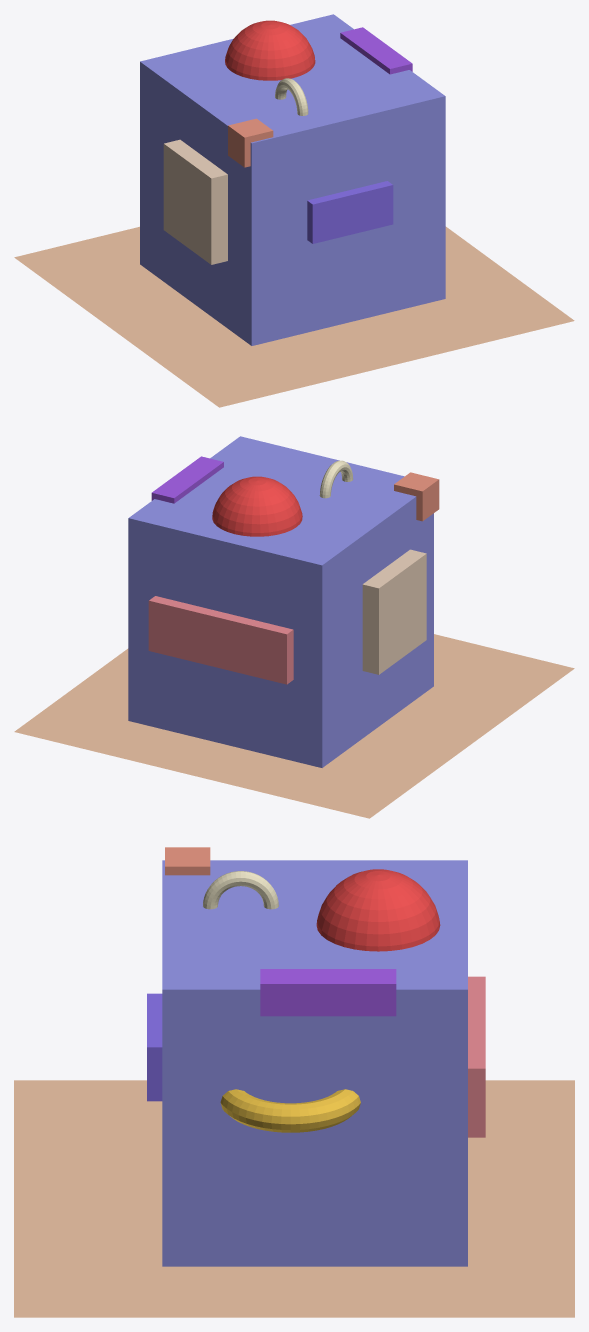
The picture shows the model from 3 angles, top to bottom: view 1: azimuth 30°, elevation 25°; view 2: azimuth 150°, elevation 25°; view 3: azimuth 270°, elevation 25°; orthographic projection. The views are drawn at different scales.
Parts seen in each view (by area): view 1: Cube, Plane, Cube.005, Sphere, Cube.003, Cube.001, Cube.002, Torus.001; view 2: Cube, Plane, Cube.004, Cube.005, Sphere, Cube.001, Cube.002, Torus.001; view 3: Cube, Plane, Sphere, Cube.001, Torus, Cube.004, Cube.003, Torus.001, Cube.002.
Boxes of the visible parts, box(x1,y1,x2,y2) form: Cube: box(140, 14, 445, 345); Plane: box(14, 226, 574, 407); Cube.005: box(163, 139, 227, 264); Sphere: box(225, 20, 315, 80); Cube.003: box(307, 181, 393, 243); Cube.001: box(340, 27, 412, 74); Cube.002: box(228, 118, 273, 167); Torus.001: box(275, 78, 308, 115); Cube: box(128, 436, 433, 767); Plane: box(14, 634, 574, 818); Cube.004: box(148, 596, 293, 684); Cube.005: box(362, 549, 426, 674); Sphere: box(212, 476, 302, 536); Cube.001: box(151, 456, 223, 503); Cube.002: box(394, 472, 439, 521); Torus.001: box(319, 460, 353, 498); Cube: box(162, 860, 467, 1266); Plane: box(14, 1080, 574, 1317); Sphere: box(316, 869, 440, 951); Cube.001: box(260, 969, 396, 1016); Torus: box(220, 1089, 360, 1132); Cube.004: box(468, 976, 485, 1137); Cube.003: box(147, 993, 162, 1101); Torus.001: box(203, 871, 278, 909); Cube.002: box(165, 847, 210, 875).
Bounding box in the file's own units: 3.67 × 2.37 × 3.67.
